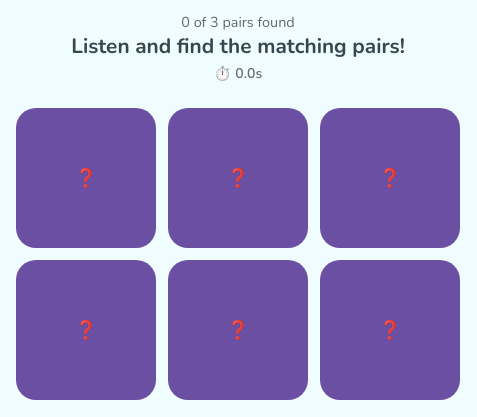
Test: SoundMemoryMatchGame › reveals the real picture as a reward once a pair is matched (never before)
What coordinates should you click on to do the following:
click the 1st button "❓"
I would click on:
 (86, 178)
Its box is [16,108,156,248].
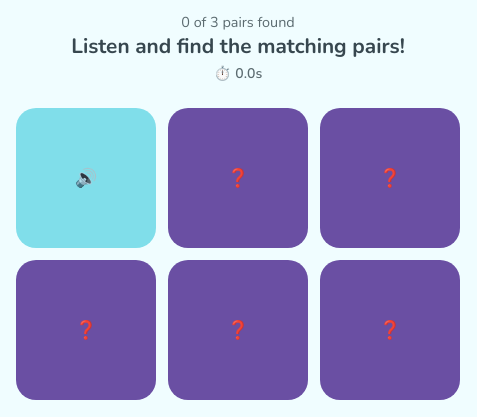
Expected: the element with class "memory-board__tile-face" reads "🔊", [75,166,97,190]
What coordinates should you click on to do the following:
click the 4th button "❓"
I would click on:
 (238, 330)
Its box is [168,260,308,400].
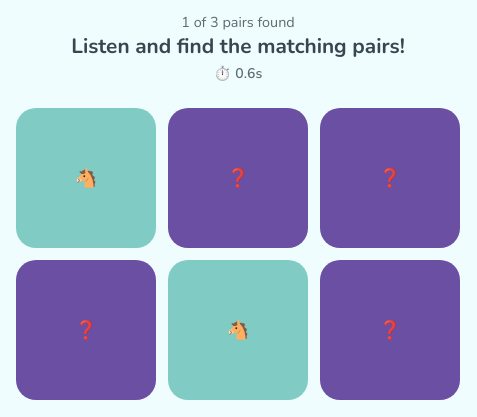
Expected: the 1st element with class "memory-board__tile-face" reads "🐴", [75,166,97,190]
Expected: the 2nd element with class "memory-board__tile-face" reads "🐴", [227,318,249,342]
Expected: the 1st element with class "memory-board__tile-face" no longer shows "🔊", [16,108,156,248]
